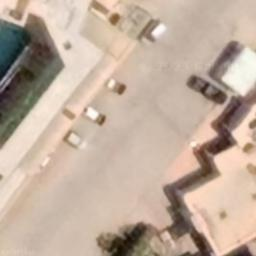sedan: (186, 70, 230, 107)
van: (140, 14, 166, 49), (75, 102, 110, 128), (60, 126, 92, 154), (99, 72, 128, 97)
